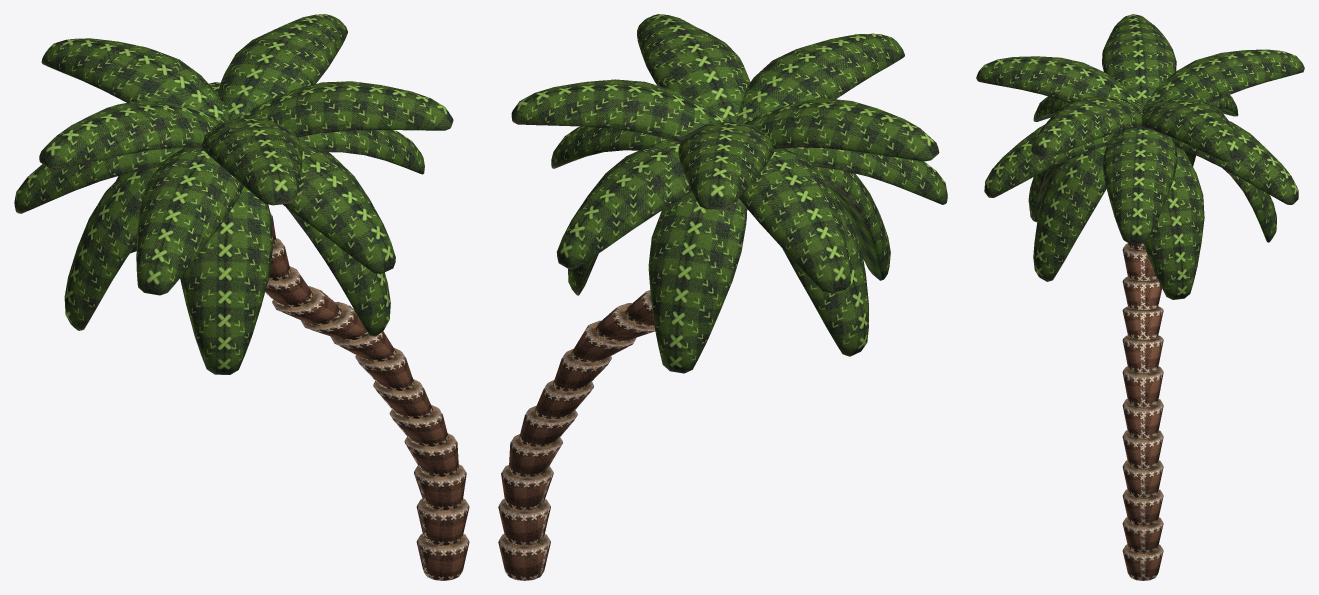
Rendered from lpb_cs_tree15.fbx.
3 views of the same model, side by side, from view 1: azimuth 30°, elevation 25°; view 2: azimuth 150°, elevation 25°; view 3: azimuth 270°, elevation 25° (orthographic). The views are drawn at different scales.
Visible parts, largest first — view 1: lpb_cs_tree15; view 2: lpb_cs_tree15; view 3: lpb_cs_tree15.
Boxes of the visible parts, left/top/right/bottom form: lpb_cs_tree15: left=14, top=14, right=469, bottom=580; lpb_cs_tree15: left=498, top=14, right=947, bottom=580; lpb_cs_tree15: left=976, top=14, right=1304, bottom=580.
Size of the model in its own units: 176 by 213 by 151.
